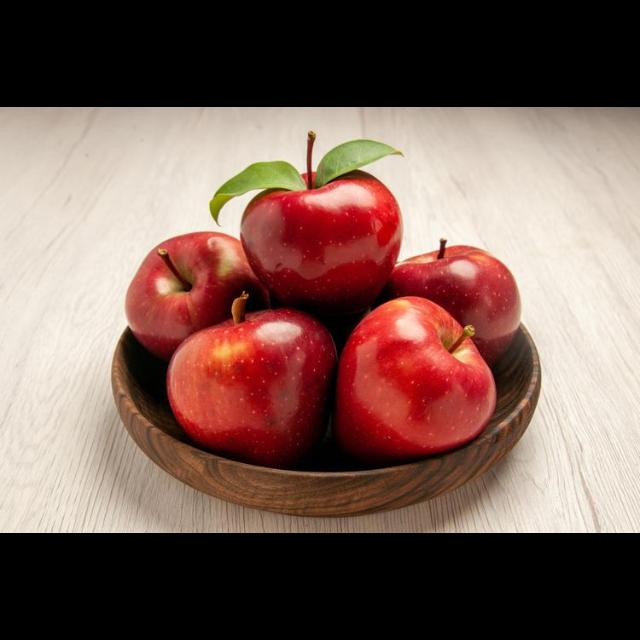Apel Segar: (329, 292, 501, 462), (163, 304, 337, 456), (235, 166, 411, 310), (378, 218, 542, 350), (110, 222, 274, 351)
